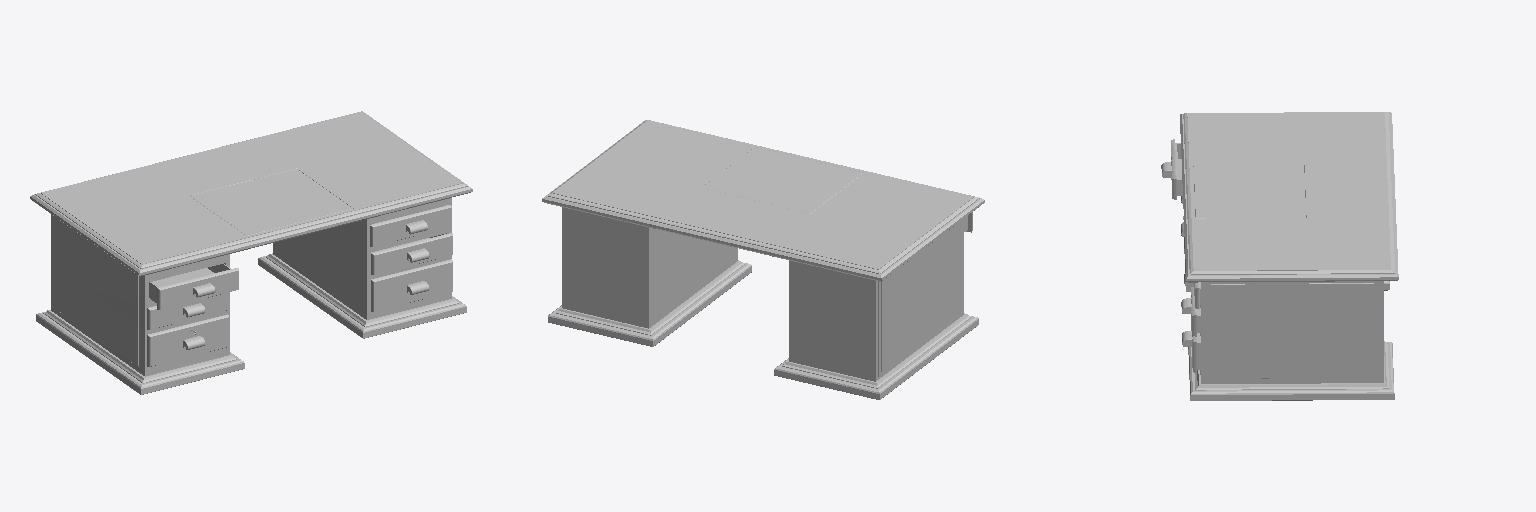
Rendered from desko.obj.
3 renders of one model, left to right at view 1: azimuth 30°, elevation 25°; view 2: azimuth 150°, elevation 25°; view 3: azimuth 270°, elevation 25°, orthographic.
Visible parts, largest first — view 1: Mesh, DESK, DESKpolySurface1cajon5, DESKpolySurface1cajon2, DESKcajoncajon, DESKcajoncajon4, DESKcajoncajon3, DESKcajoncajon1; view 2: Mesh, DESK; view 3: Mesh, DESK, DESKcajoncajon.
Boxes of the visible parts, <box> form: Mesh: <box>30,111,472,394</box>; DESK: <box>190,169,352,235</box>; DESKpolySurface1cajon5: <box>371,259,452,311</box>; DESKpolySurface1cajon2: <box>147,314,228,366</box>; DESKcajoncajon: <box>149,264,238,309</box>; DESKcajoncajon4: <box>371,233,452,274</box>; DESKcajoncajon3: <box>370,205,451,246</box>; DESKcajoncajon1: <box>147,292,228,329</box>; Mesh: <box>542,120,984,399</box>; DESK: <box>702,147,862,213</box>; Mesh: <box>1180,112,1398,400</box>; DESK: <box>1193,165,1305,218</box>; DESKcajoncajon: <box>1171,139,1182,199</box>.
Size of the model in its own units: 2.03 by 0.7372 by 1.23.